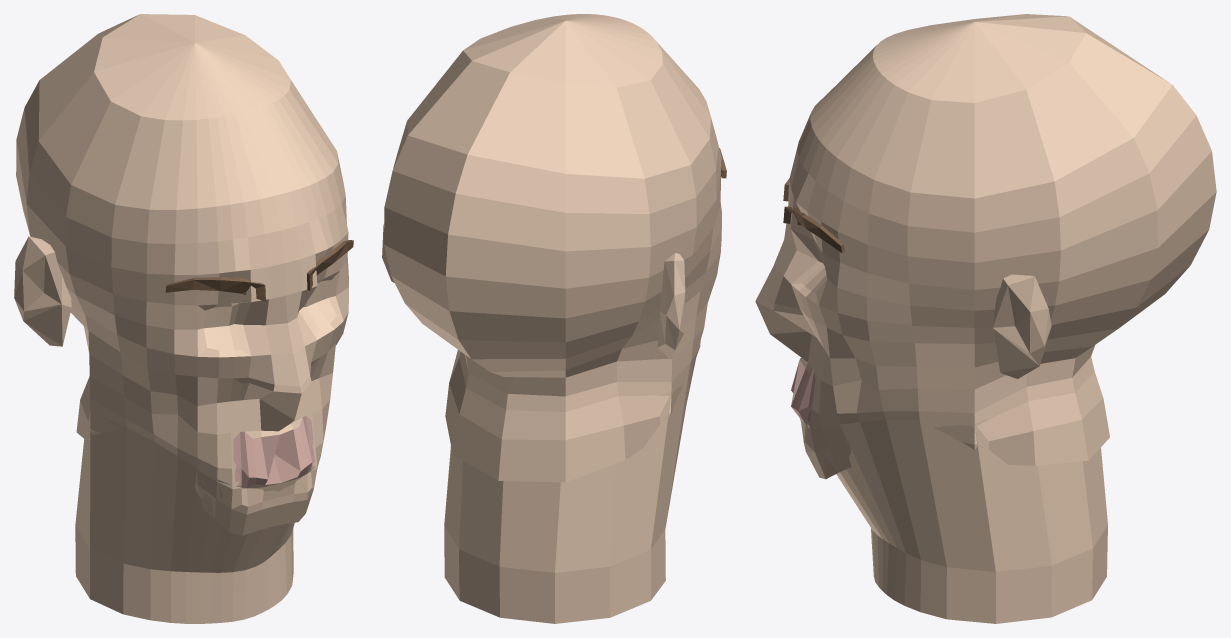
File: head_tpl.glb
3 renders of one model, left to right at view 1: azimuth 30°, elevation 25°; view 2: azimuth 150°, elevation 25°; view 3: azimuth 270°, elevation 25°, orthographic. The views are drawn at different scales.
Parts seen in each view (by area): view 1: Head_Main, Ears, Eyebrow_R, Eyebrow_L; view 2: Head_Main, Ears; view 3: Head_Main, Ears, Eyebrow_L.
Boxes of the visible parts, bbox=[...] form: Head_Main: bbox=[16, 14, 348, 623]; Ears: bbox=[14, 236, 71, 346]; Eyebrow_R: bbox=[165, 277, 265, 301]; Eyebrow_L: bbox=[307, 240, 353, 290]; Head_Main: bbox=[384, 14, 721, 623]; Ears: bbox=[382, 223, 685, 358]; Head_Main: bbox=[755, 14, 1216, 623]; Ears: bbox=[992, 274, 1051, 378]; Eyebrow_L: bbox=[783, 206, 844, 252].
Bounding box in the file's own units: 0.1635 × 0.2882 × 0.2172.
